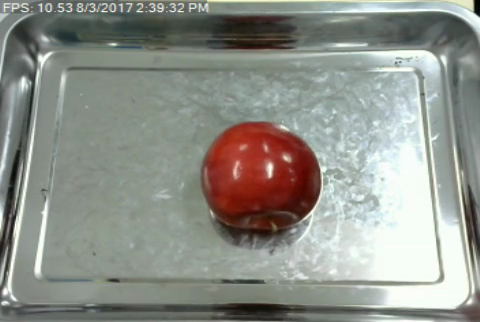Apple: (197, 119, 324, 234)
